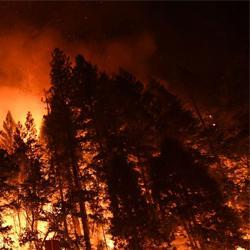fire: (2, 208, 52, 249)
